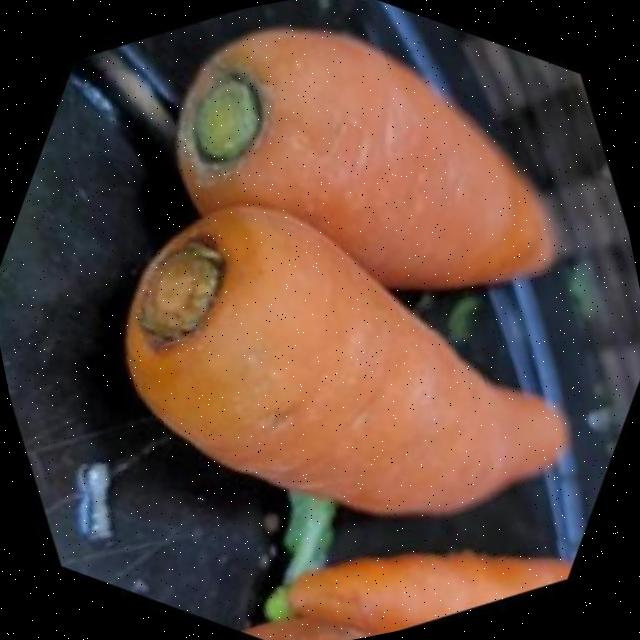carrot: (125, 207, 565, 513), (176, 29, 555, 288), (250, 553, 566, 640)
